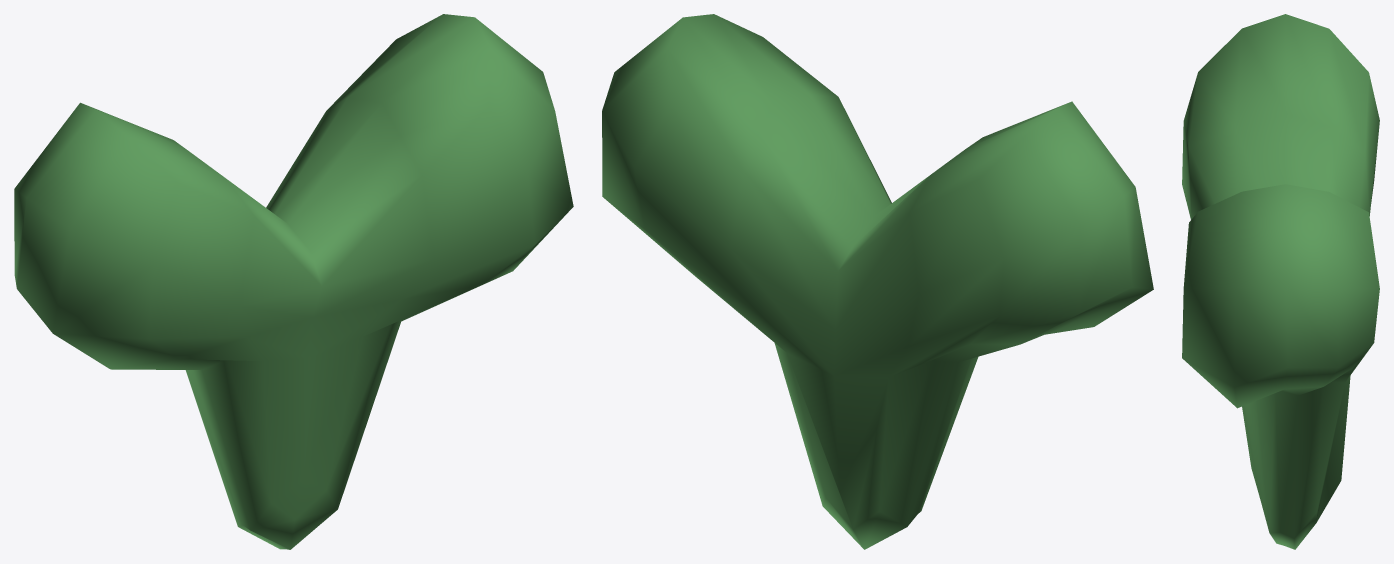
The model's file is Hidden Plant.fbx.
The picture shows the model from 3 angles, left to right: view 1: azimuth 30°, elevation 25°; view 2: azimuth 150°, elevation 25°; view 3: azimuth 270°, elevation 25°; orthographic projection. The views are drawn at different scales.
Visible parts, largest first — view 1: hidden plant; view 2: hidden plant; view 3: hidden plant.
Part boxes in pixels (x1,y1,x2,y2): hidden plant: (14, 14, 573, 549); hidden plant: (602, 14, 1153, 549); hidden plant: (1182, 14, 1379, 549).
Size of the model in its own units: 1.22 by 0.4243 by 1.07.
